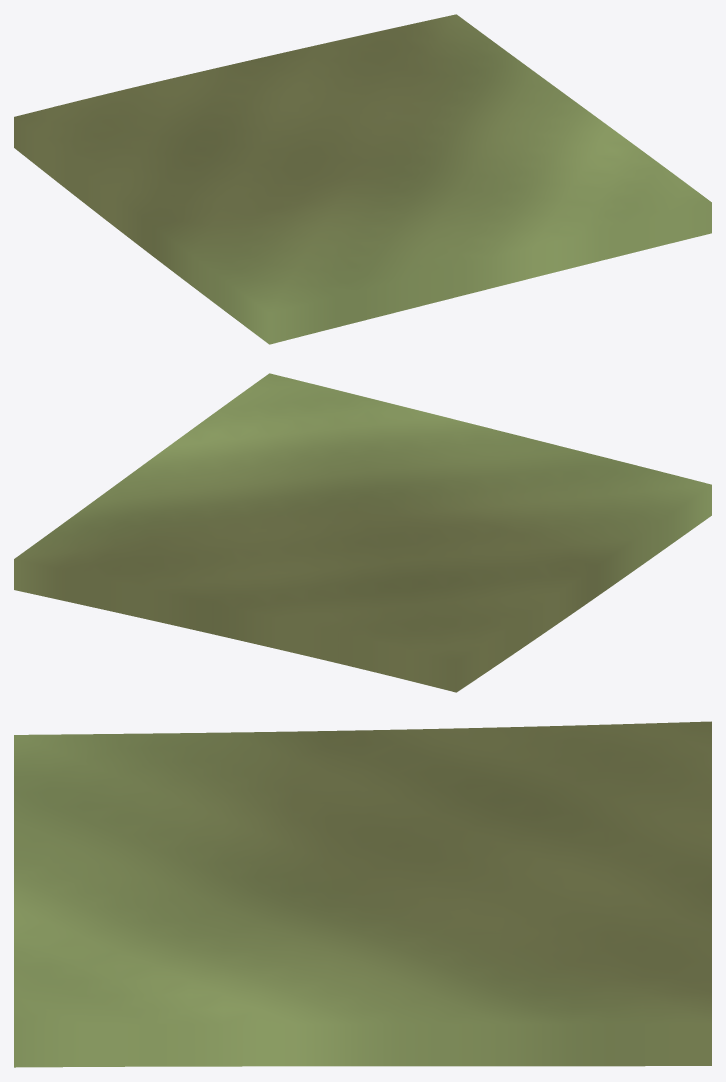
3 views of the same model, one above another, from view 1: azimuth 30°, elevation 25°; view 2: azimuth 150°, elevation 25°; view 3: azimuth 270°, elevation 25° (orthographic). The views are drawn at different scales.
Parts seen in each view (by area): view 1: terrain; view 2: terrain; view 3: terrain.
Part boxes in pixels (box(x1,y1,x2,y2)): terrain: box(14, 14, 711, 344); terrain: box(14, 373, 711, 692); terrain: box(14, 721, 711, 1067).
Bounding box in the file's own units: 30 × 2.67 × 30.
